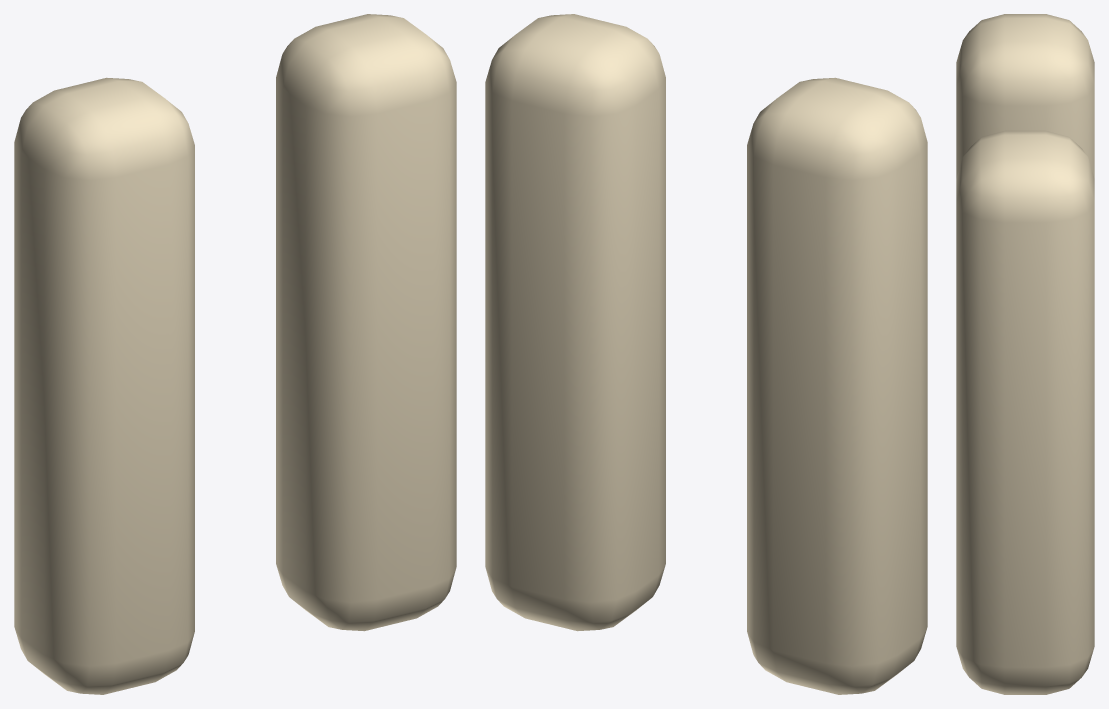
File: icon_pause.glb
3 views of the same model, side by side, from view 1: azimuth 30°, elevation 25°; view 2: azimuth 150°, elevation 25°; view 3: azimuth 270°, elevation 25° (orthographic). The views are drawn at different scales.
Visible parts, largest first — view 1: Pause; view 2: Pause; view 3: Pause.
Boxes of the visible parts, x1,y1,x2,y2 form: Pause: [14, 14, 456, 694]; Pause: [485, 14, 927, 694]; Pause: [956, 14, 1094, 694].
Size of the model in its own units: 0.62 by 0.85 by 0.2.
Materials: 1 (1 with a texture image).
